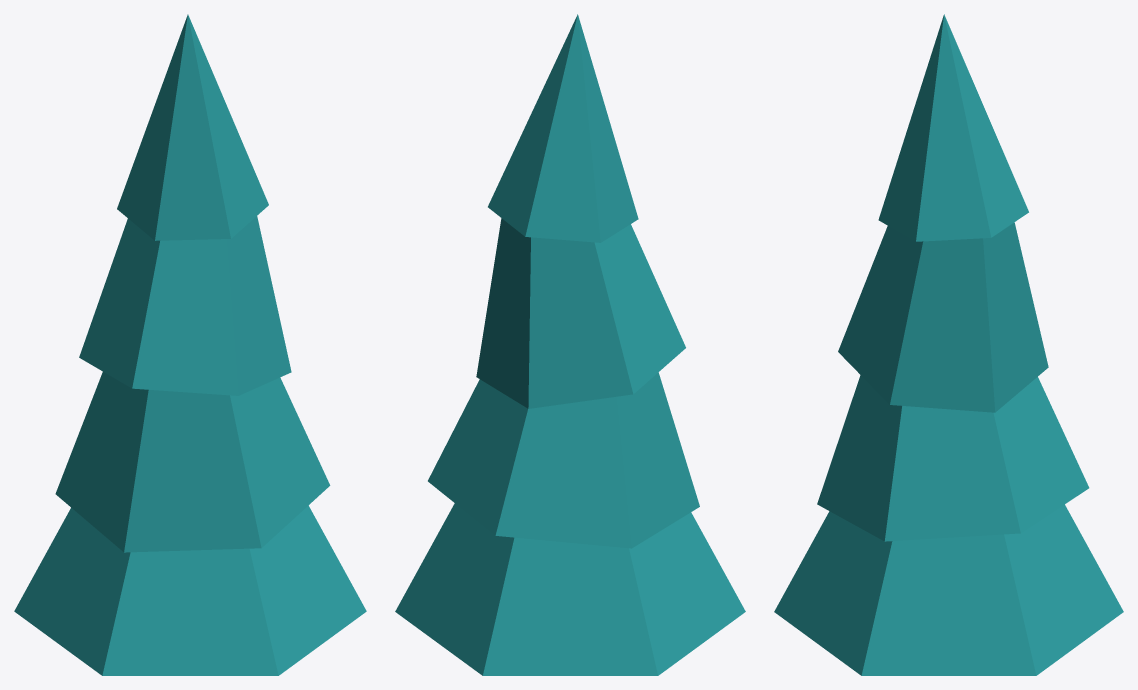
The model's file is tree_pineGroundB.dae.
The picture shows the model from 3 angles, left to right: view 1: azimuth 30°, elevation 25°; view 2: azimuth 150°, elevation 25°; view 3: azimuth 270°, elevation 25°; orthographic projection.
Visible parts, largest first — view 1: tree_pineGroundB; view 2: tree_pineGroundB; view 3: tree_pineGroundB.
Boxes of the visible parts, x1,y1,x2,y2 form: tree_pineGroundB: [14, 14, 366, 675]; tree_pineGroundB: [395, 14, 745, 675]; tree_pineGroundB: [774, 14, 1123, 675].
Bounding box in the file's own units: 0.4804 × 1.04 × 0.5547.
